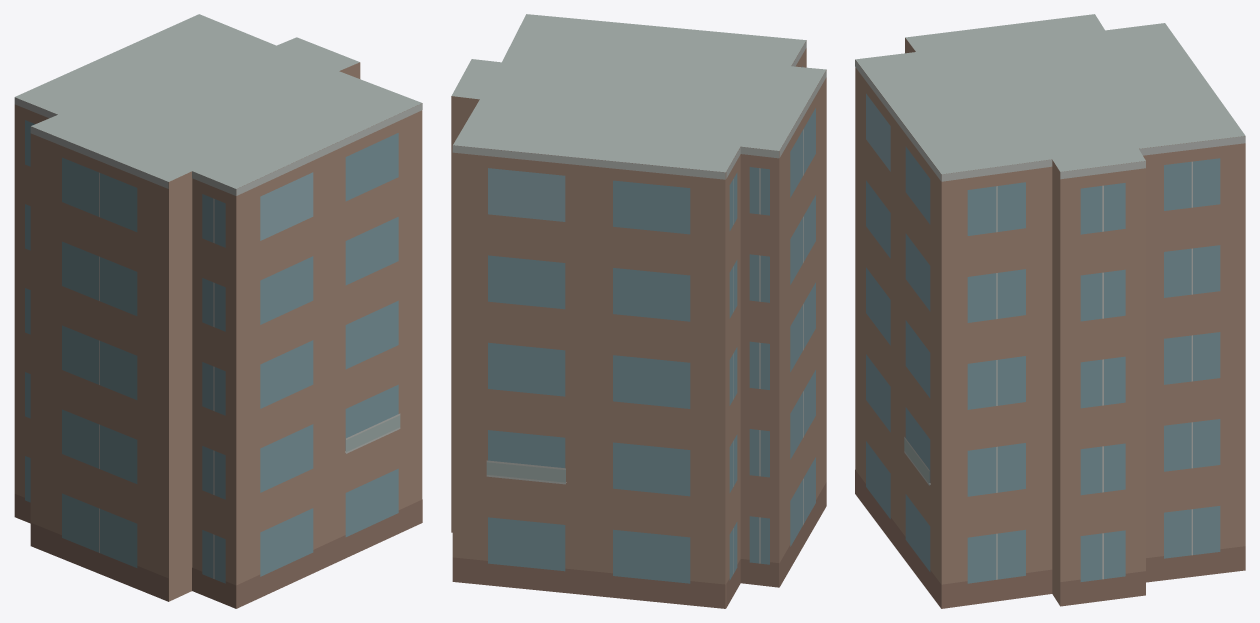
Rendered from survey-upis-32622683.glb.
3 renders of one model, left to right at view 1: azimuth 30°, elevation 25°; view 2: azimuth 150°, elevation 25°; view 3: azimuth 270°, elevation 25°, orthographic. The views are drawn at different scales.
Visible parts, largest first — view 1: survey-upis-32622683.tmp; view 2: survey-upis-32622683.tmp; view 3: survey-upis-32622683.tmp.
Part boxes in pixels (x1=…): survey-upis-32622683.tmp: x1=14, y1=14, x2=422, y2=608; survey-upis-32622683.tmp: x1=451, y1=14, x2=826, y2=608; survey-upis-32622683.tmp: x1=855, y1=14, x2=1245, y2=608.
Bounding box in the file's own units: 11.41 × 14.4 × 11.74.
